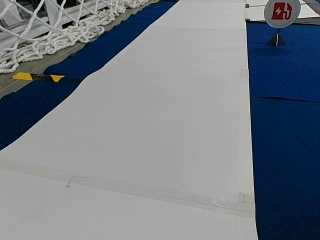battery: (262, 0, 301, 28)
